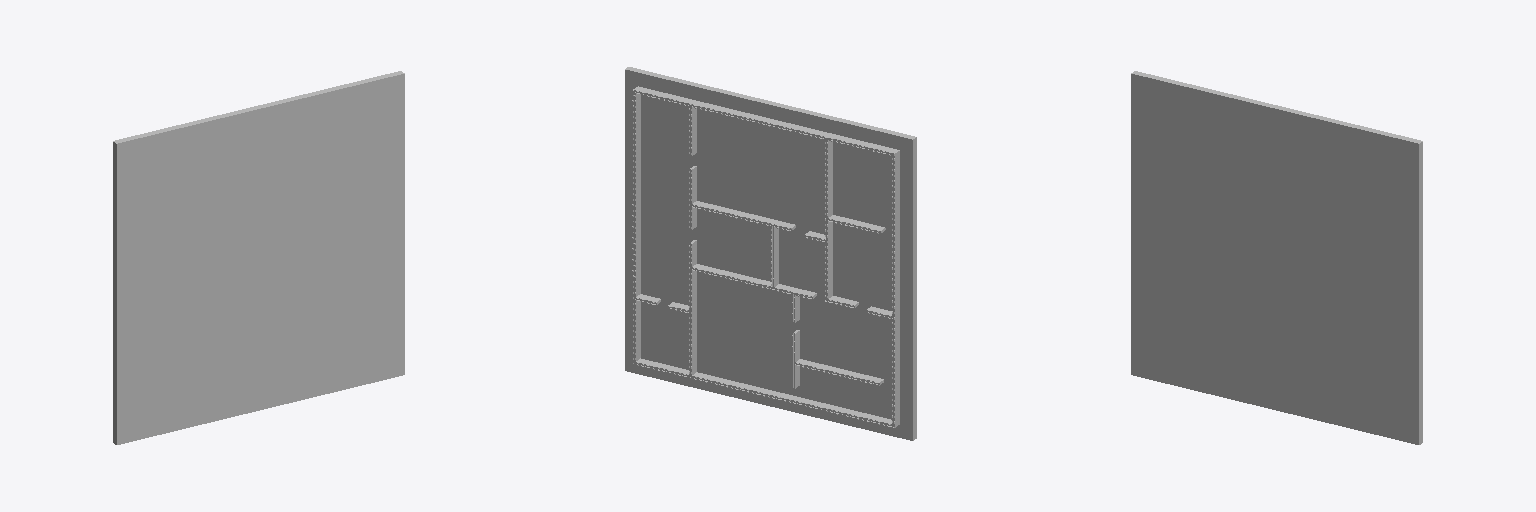
The model's file is SUELO.obj.
The picture shows the model from 3 angles: view 1: azimuth 30°, elevation 25°; view 2: azimuth 150°, elevation 25°; view 3: azimuth 330°, elevation 25°; orthographic projection.
Visible parts, largest first — view 1: Plane001; view 2: Plane001; view 3: Plane001.
Part boxes in pixels (x1,y1,x2,y2): Plane001: (113, 71, 404, 444); Plane001: (625, 67, 916, 440); Plane001: (1131, 71, 1422, 444).
Size of the model in its own units: 110 by 110 by 6.28.